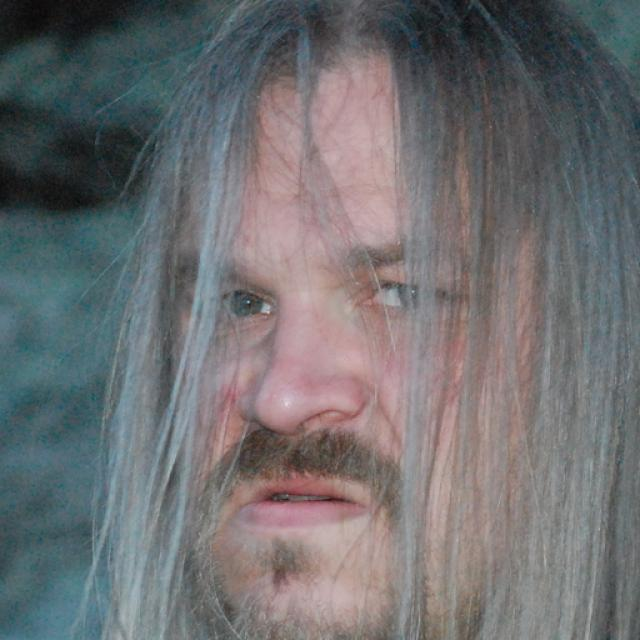disgust: (167, 41, 559, 640)
